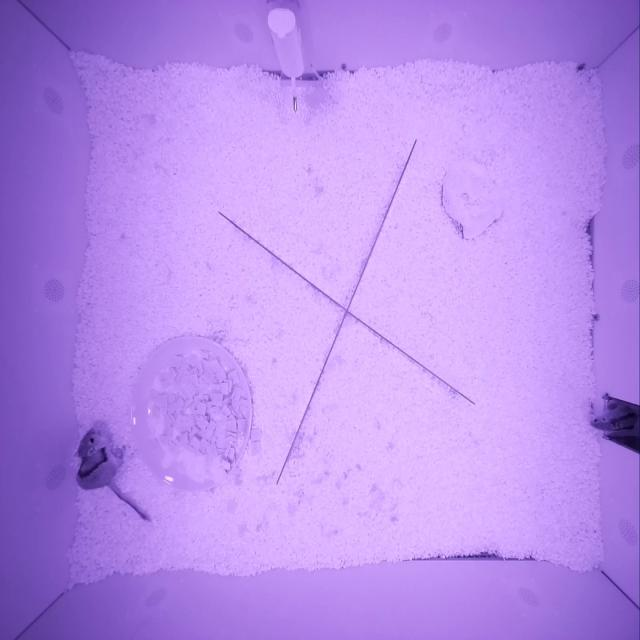adult_front: (74, 428, 123, 490)
pup_v_stripe: (590, 404, 637, 430)
